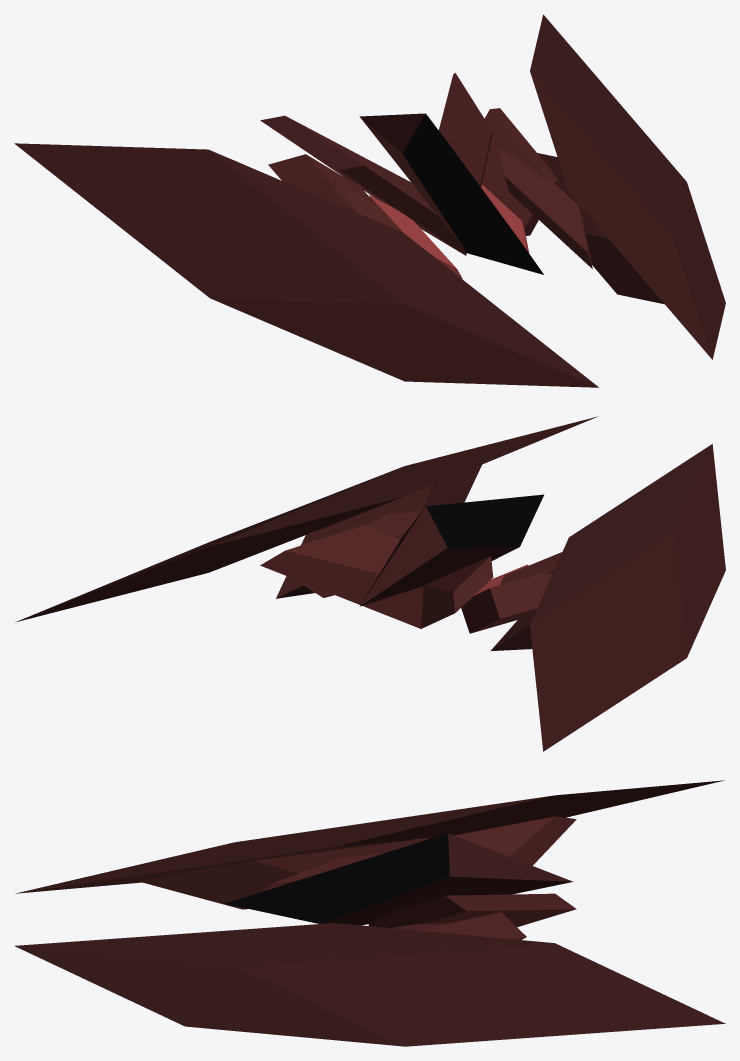
3 views of the same model, one above another, from view 1: azimuth 30°, elevation 25°; view 2: azimuth 150°, elevation 25°; view 3: azimuth 270°, elevation 25° (orthographic). The views are drawn at different scales.
Parts seen in each view (by area): view 1: LowPolySpaceship03; view 2: LowPolySpaceship03; view 3: LowPolySpaceship03.
Part boxes in pixels (x1,y1,x2,y2): LowPolySpaceship03: [14, 14, 725, 387]; LowPolySpaceship03: [15, 416, 725, 751]; LowPolySpaceship03: [15, 780, 725, 1046].
Bounding box in the file's own units: 3.13 × 0.7169 × 3.87.
